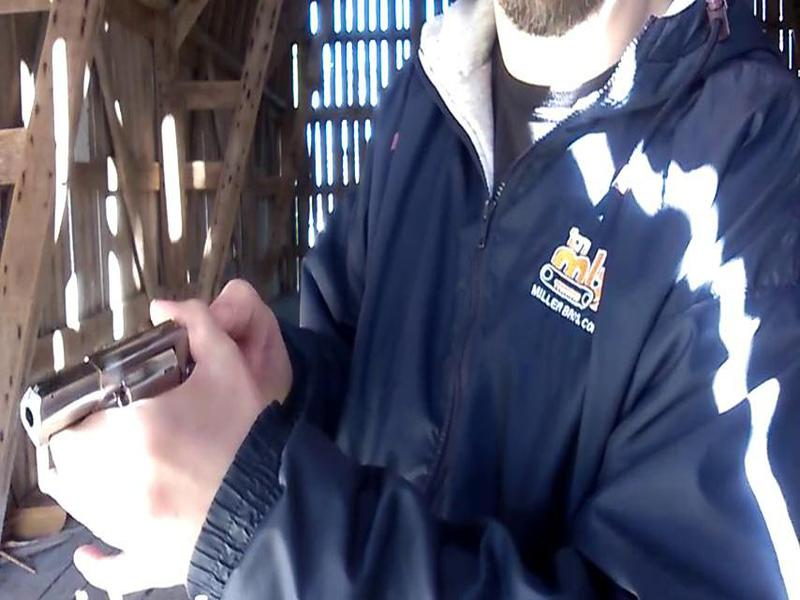Revolver: (25, 324, 207, 461)
